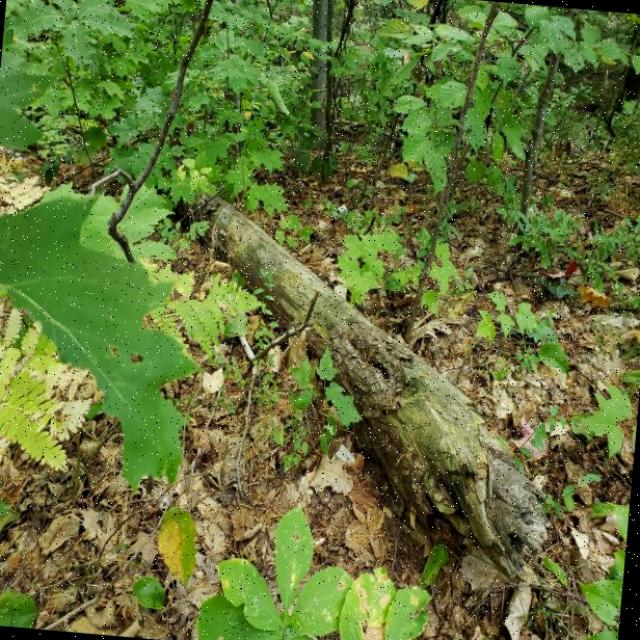fallen_object: (56, 92, 579, 562)
